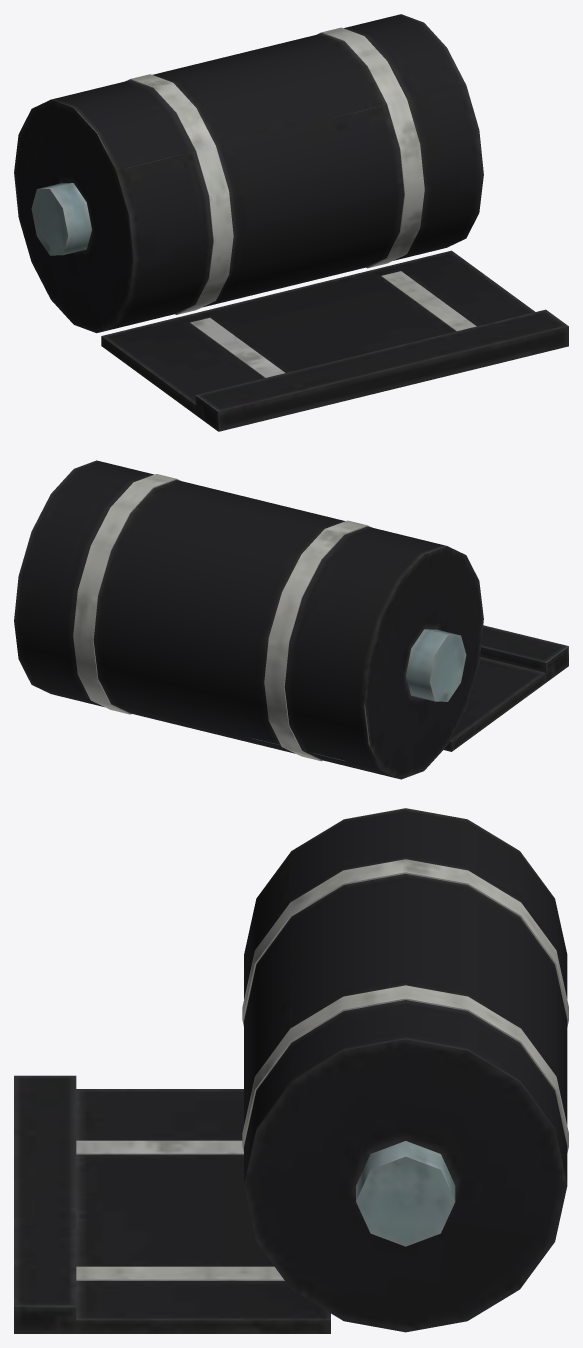
Rendered from carbon_fiber.glb.
3 views of the same model, one above another, from view 1: azimuth 30°, elevation 25°; view 2: azimuth 150°, elevation 25°; view 3: azimuth 270°, elevation 25° (orthographic). The views are drawn at different scales.
Visible parts, largest first — view 1: te_res_carbon_fiber; view 2: te_res_carbon_fiber; view 3: te_res_carbon_fiber.
Boxes of the visible parts, left/top/right/bottom form: te_res_carbon_fiber: left=14, top=14, right=568, bottom=431; te_res_carbon_fiber: left=14, top=460, right=568, bottom=779; te_res_carbon_fiber: left=14, top=808, right=568, bottom=1333.
Size of the model in its own units: 0.5 by 0.2626 by 0.4463.
Materials: 1 (1 with a texture image).
